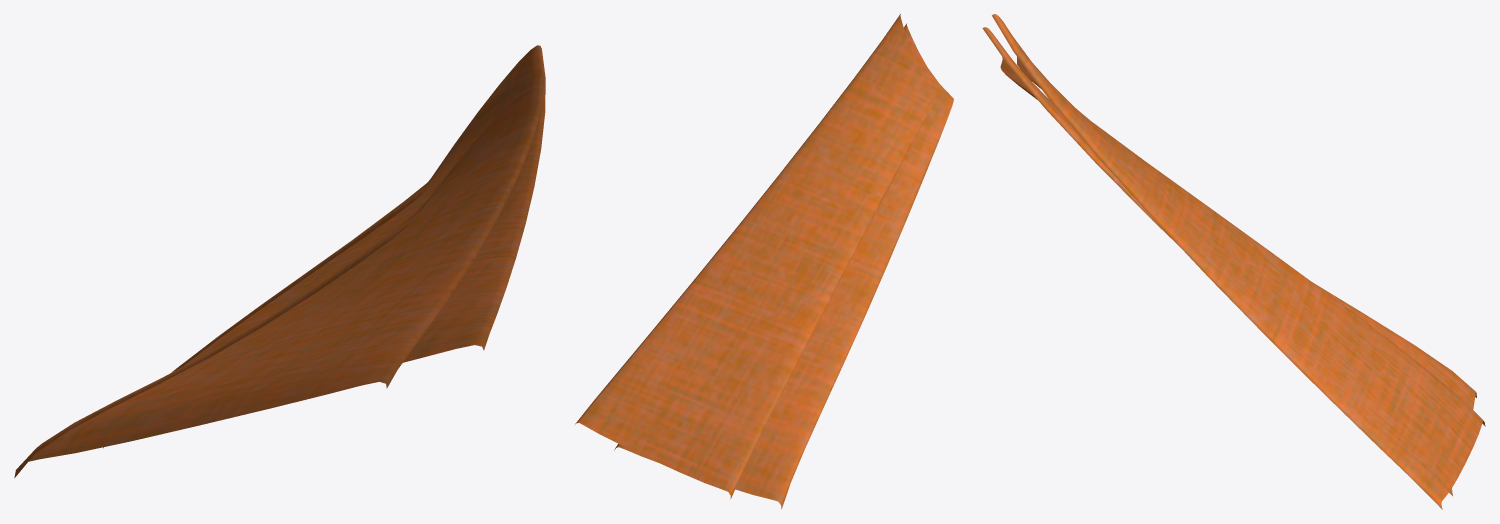
The model's file is StrawHat1Ribbon.fbx.
3 views of the same model, side by side, from view 1: azimuth 30°, elevation 25°; view 2: azimuth 150°, elevation 25°; view 3: azimuth 270°, elevation 25° (orthographic). The views are drawn at different scales.
Visible parts, largest first — view 1: Cube.004; view 2: Cube.004; view 3: Cube.004.
Part boxes in pixels (<box>): Cube.004: <box>14,45,545,478</box>; Cube.004: <box>575,14,953,508</box>; Cube.004: <box>982,14,1485,509</box>.
Size of the model in its own units: 35.08 by 51.32 by 54.56.
